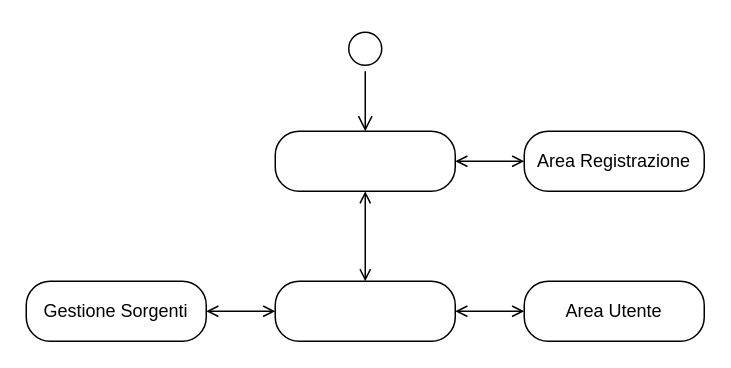
This 731x368 diagram has some shape labels left out. The shapes that lost their labels are listed below. From the top down, each one's box as (x1, y1, x2, y2) in pixels, then its label:
(274, 130, 455, 191): Area Login
(274, 280, 455, 341): Bacheca
